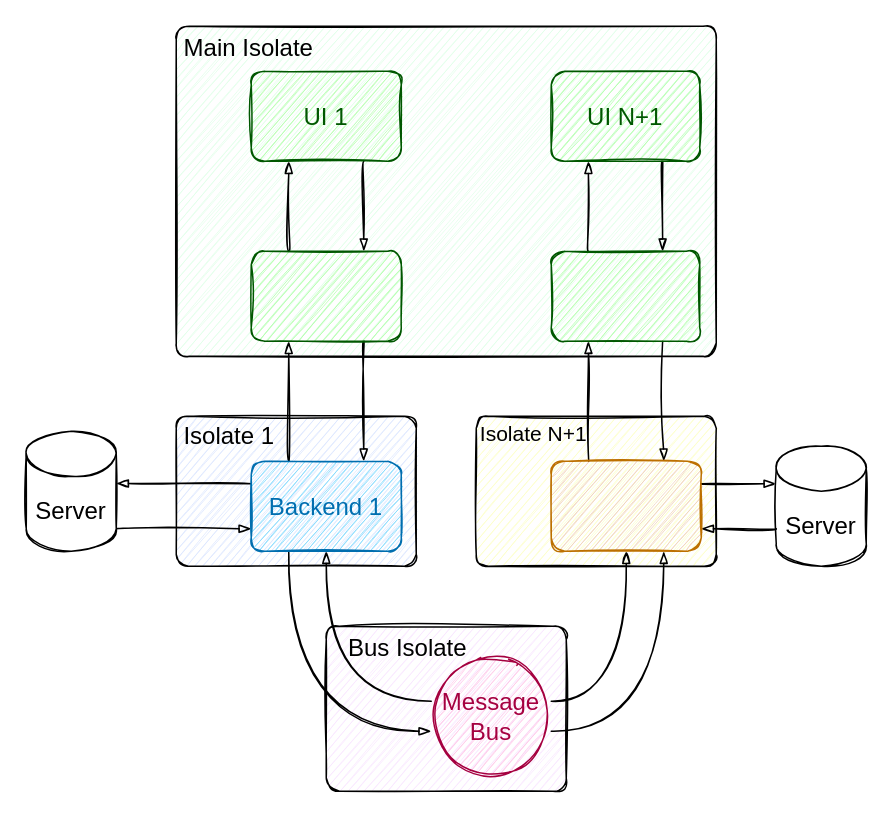
Some shapes in this 893 by 818 pixel diagram are drawn without their labels. Here are the shapes that lost their labels. From the top down, the box of each, then its label:
(250, 250, 401, 341): Frontend 1
(550, 250, 700, 341): Frontend N+1
(550, 460, 701, 551): Backend N+1
